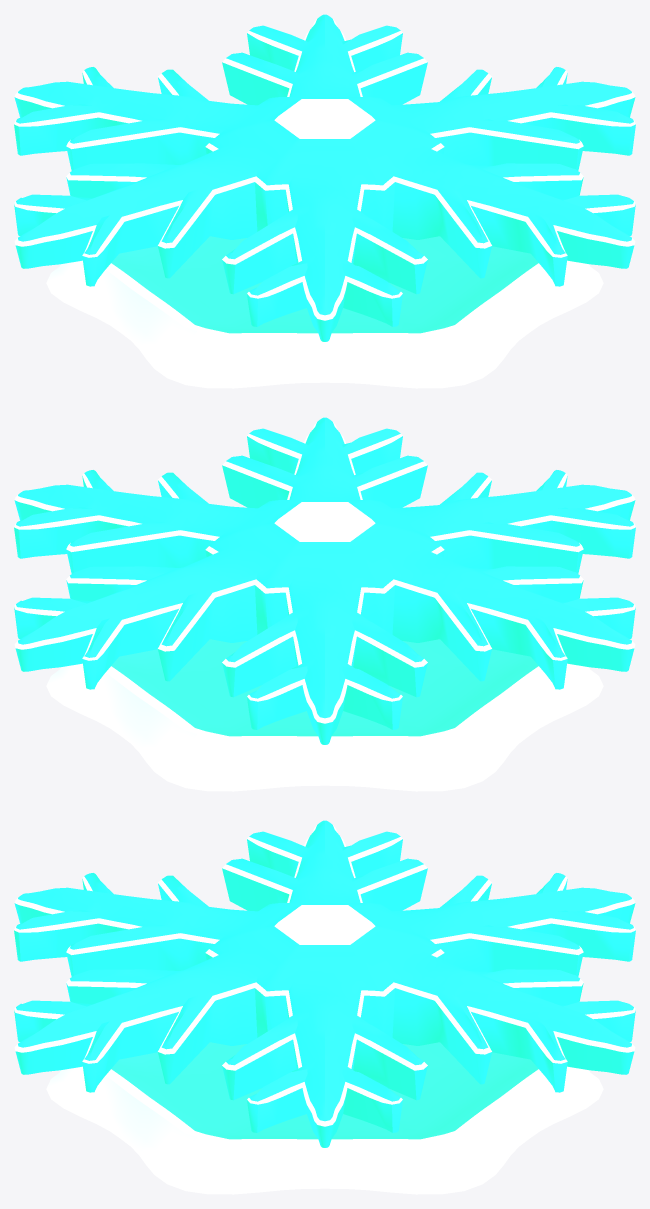
The model's file is Ice_Snowflake_Jade.glb.
3 renders of one model, top to bottom at view 1: azimuth 30°, elevation 25°; view 2: azimuth 150°, elevation 25°; view 3: azimuth 270°, elevation 25°, orthographic.
Parts seen in each view (by area): view 1: Button_Jade_Surface, Button_Jade_Frame; view 2: Button_Jade_Surface, Button_Jade_Frame; view 3: Button_Jade_Surface, Button_Jade_Frame.
Part boxes in pixels (<box>): Button_Jade_Surface: <box>14,14,635,341</box>; Button_Jade_Frame: <box>46,236,603,388</box>; Button_Jade_Surface: <box>14,417,635,744</box>; Button_Jade_Frame: <box>46,639,603,791</box>; Button_Jade_Surface: <box>14,820,635,1147</box>; Button_Jade_Frame: <box>46,1042,603,1194</box>.
Bounding box in the file's own units: 2 × 0.525 × 1.74.
